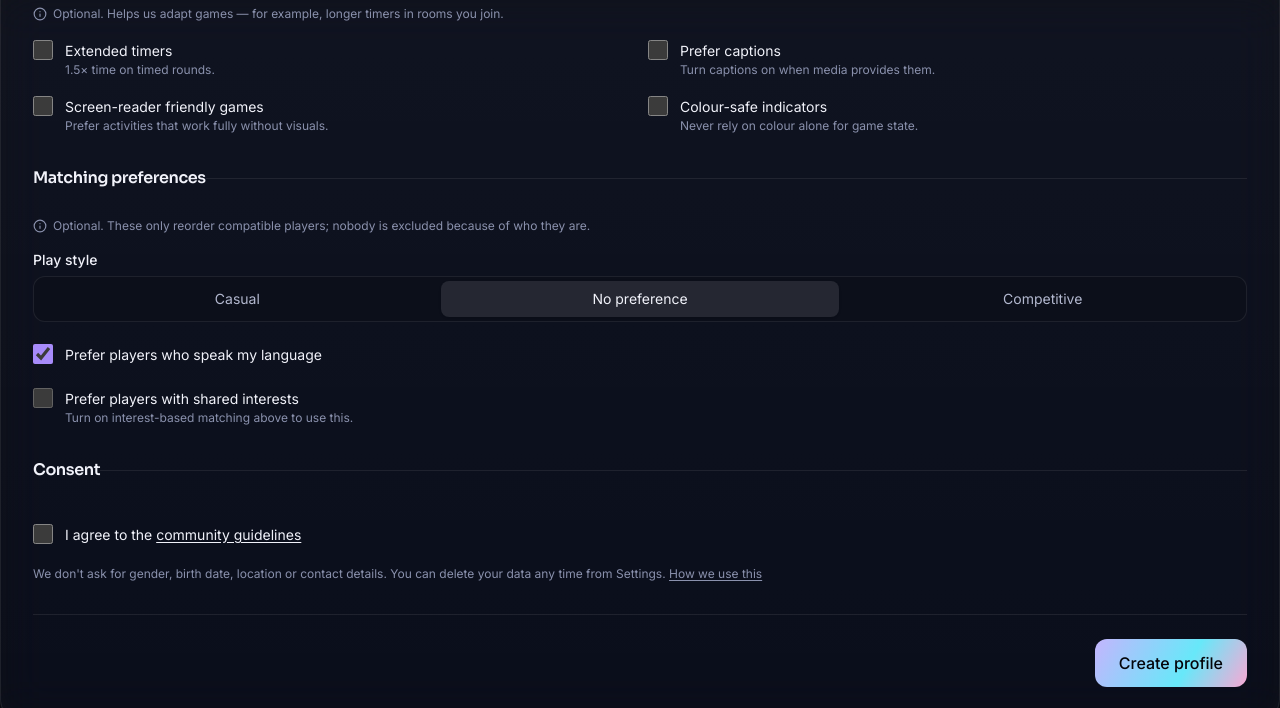
Test case: <ProfileForm /> › shows an error summary and does not submit when invalid
The image size is (1280, 708).
(page scrolled)
Click the button "Create profile" at (1171, 663), box [1095, 639, 1247, 687]
(page scrolled)
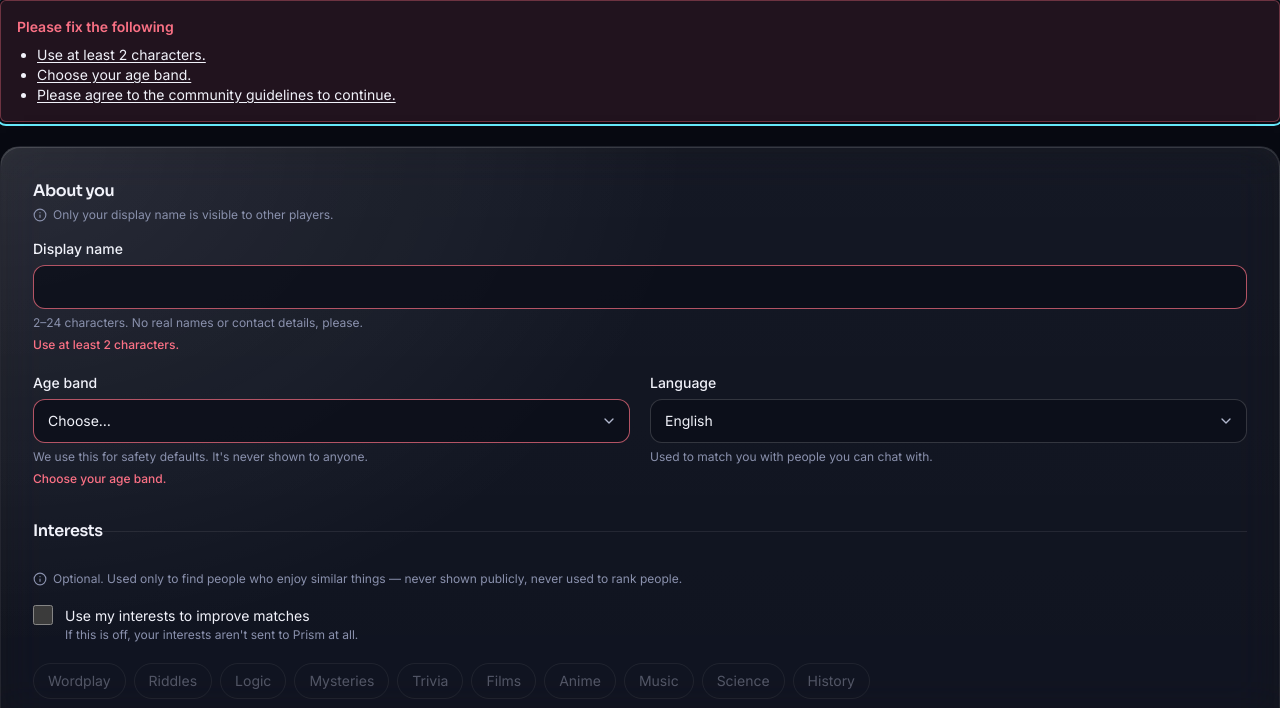
Expected: the field labelled "gender" is not shown
Now the message that starts with "Please fix the following" is shown, box [17, 18, 174, 35]
